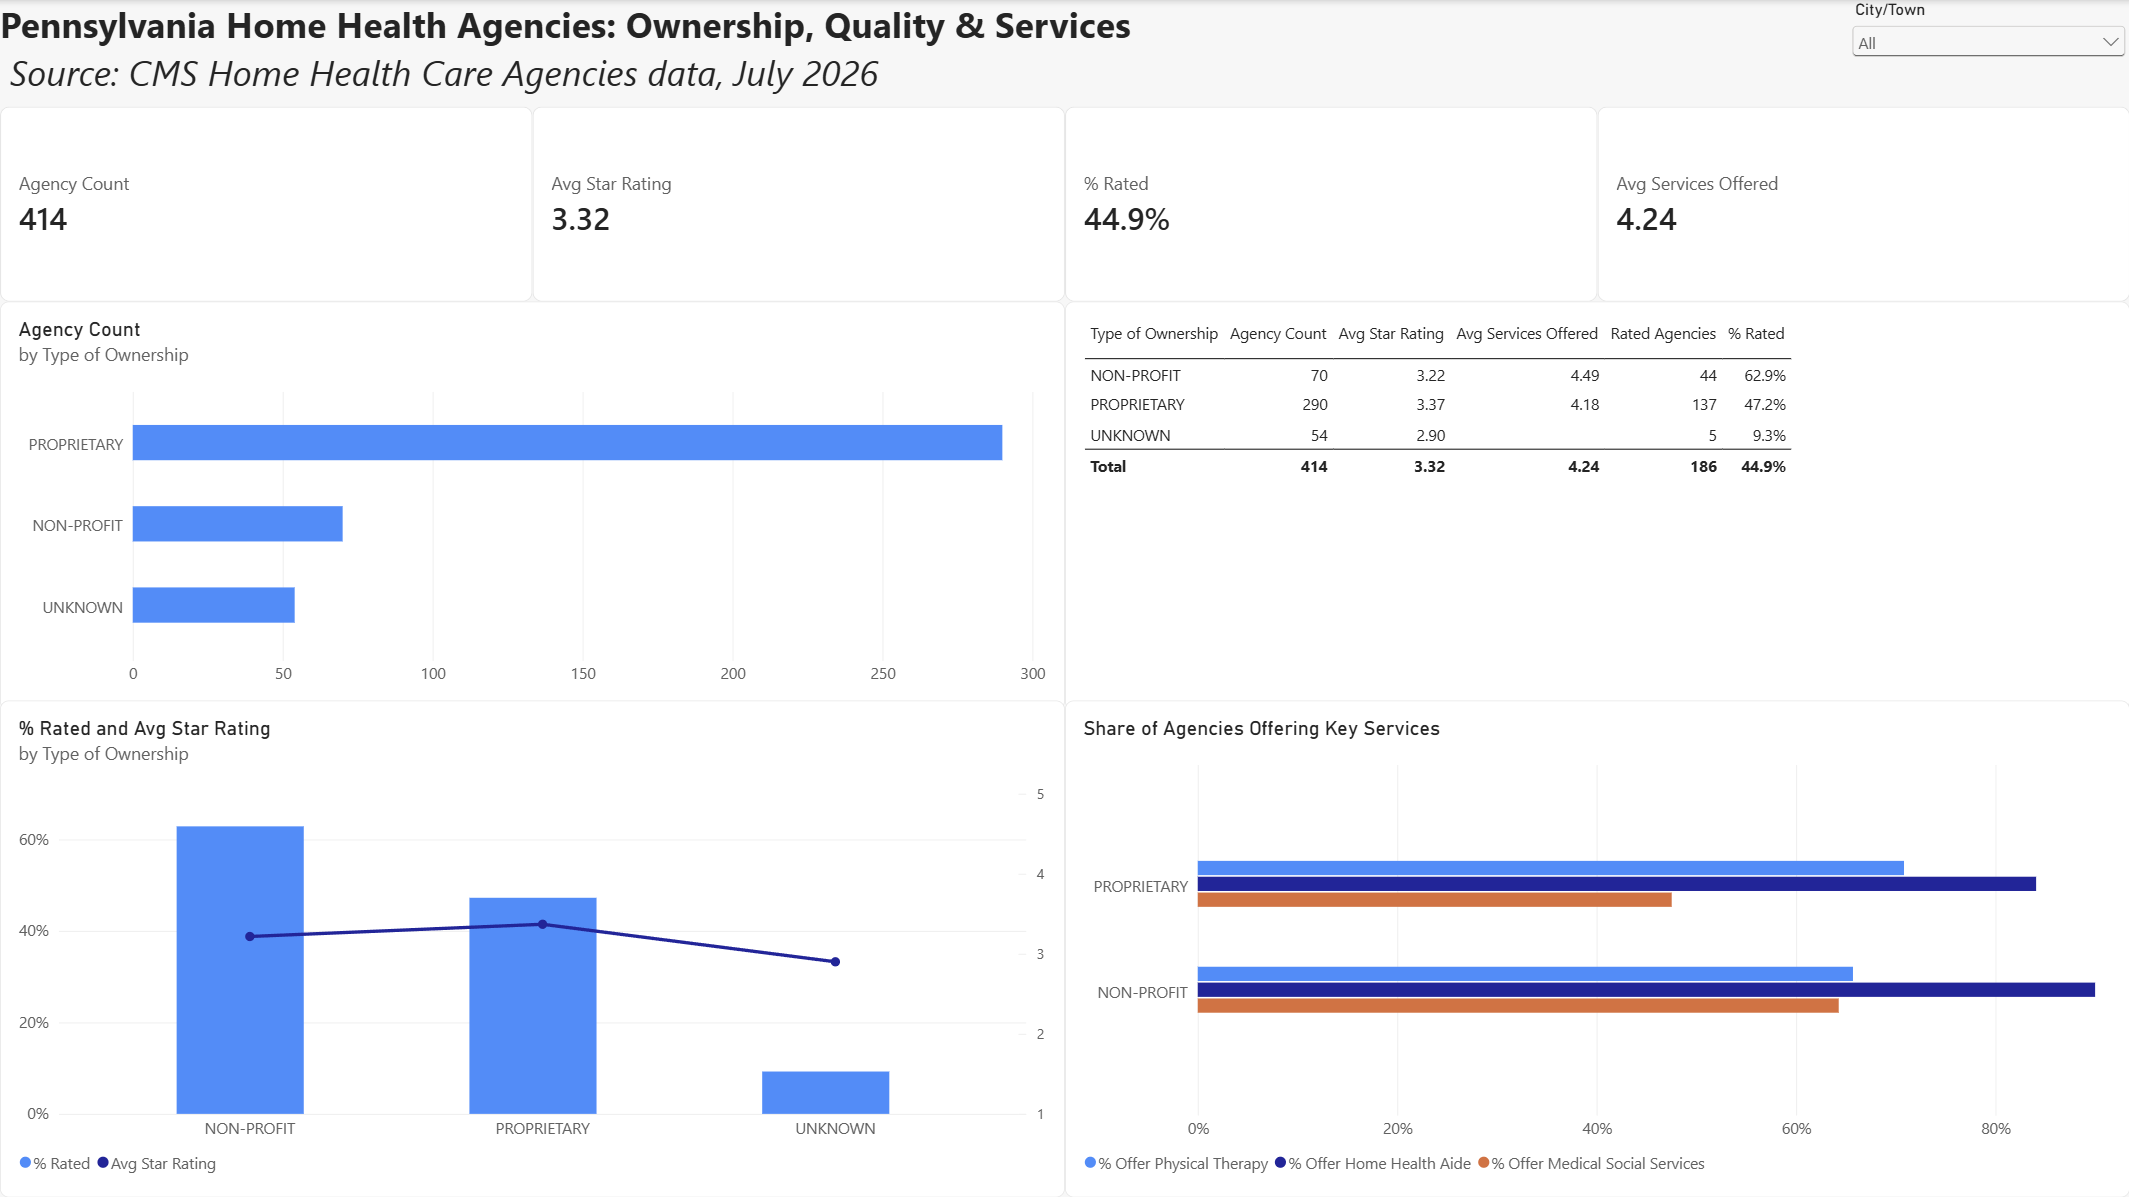

Layout of this report page (visuals, bound fields, positions):
{"tool":"powerbi","page":{"name":"Page 1","canvas":[1920,1080],"ordinal":0},"visuals":[{"type":"tableEx","fields":{"Values":["Agencies.Type of Ownership","Agencies.Agency Count","Agencies.Avg Star Rating","Agencies.Avg Services Offered","Agencies.Rated Agencies","Agencies.% Rated"]},"box":[960,272,960,368],"z":0},{"type":"cardVisual","fields":{"Data":["Agencies.Agency Count"]},"box":[0,96,480,176],"z":1000},{"type":"cardVisual","fields":{"Data":["Agencies.Avg Star Rating"]},"box":[480,96,480,176],"z":2000},{"type":"cardVisual","fields":{"Data":["Agencies.% Rated"]},"box":[960,96,480,176],"z":3000},{"type":"clusteredBarChart","fields":{"Category":["Agencies.Type of Ownership"],"Y":["Agencies.Agency Count"]},"box":[0,272,960,368],"z":4000},{"type":"lineClusteredColumnComboChart","fields":{"Category":["Agencies.Type of Ownership"],"Y":["Agencies.% Rated"],"Y2":["Agencies.Avg Star Rating"]},"box":[0,632,960,448],"z":5000},{"type":"textbox","box":[0,0,1664,176],"z":6000},{"type":"cardVisual","fields":{"Data":["Agencies.Avg Services Offered"]},"box":[1440,96,480,176],"z":7000},{"type":"slicer","fields":{"Values":["Agencies.City/Town"]},"box":[1664,0,256,96],"z":8000},{"type":"clusteredBarChart","title":"Share of Agencies Offering Key Services","fields":{"Category":["Agencies.Type of Ownership"],"Y":["Agencies.% Offer Physical Therapy","Agencies.% Offer Home Health Aide","Agencies.% Offer Medical Social Services"]},"box":[960,632,960,448],"z":8001}]}

Visuals, with their boxes in screenshot pixels (x1, y1, x2, y2), scaled from the page's 1920x1080 canvas onto the 2129x1197 screenshot:
tableEx - Agencies.Type of Ownership x Agencies.Agency Count: <bbox>1064, 301, 2128, 709</bbox>
cardVisual - Agencies.Agency Count: <bbox>0, 106, 532, 301</bbox>
cardVisual - Agencies.Avg Star Rating: <bbox>532, 106, 1064, 301</bbox>
cardVisual - Agencies.% Rated: <bbox>1064, 106, 1597, 301</bbox>
clusteredBarChart - Agencies.Type of Ownership x Agencies.Agency Count: <bbox>0, 301, 1064, 709</bbox>
lineClusteredColumnComboChart - Agencies.Type of Ownership x Agencies.% Rated: <bbox>0, 700, 1064, 1196</bbox>
textbox: <bbox>0, 0, 1845, 195</bbox>
cardVisual - Agencies.Avg Services Offered: <bbox>1597, 106, 2128, 301</bbox>
slicer - Agencies.City/Town: <bbox>1845, 0, 2128, 106</bbox>
"Share of Agencies Offering Key Services" clusteredBarChart: <bbox>1064, 700, 2128, 1196</bbox>
